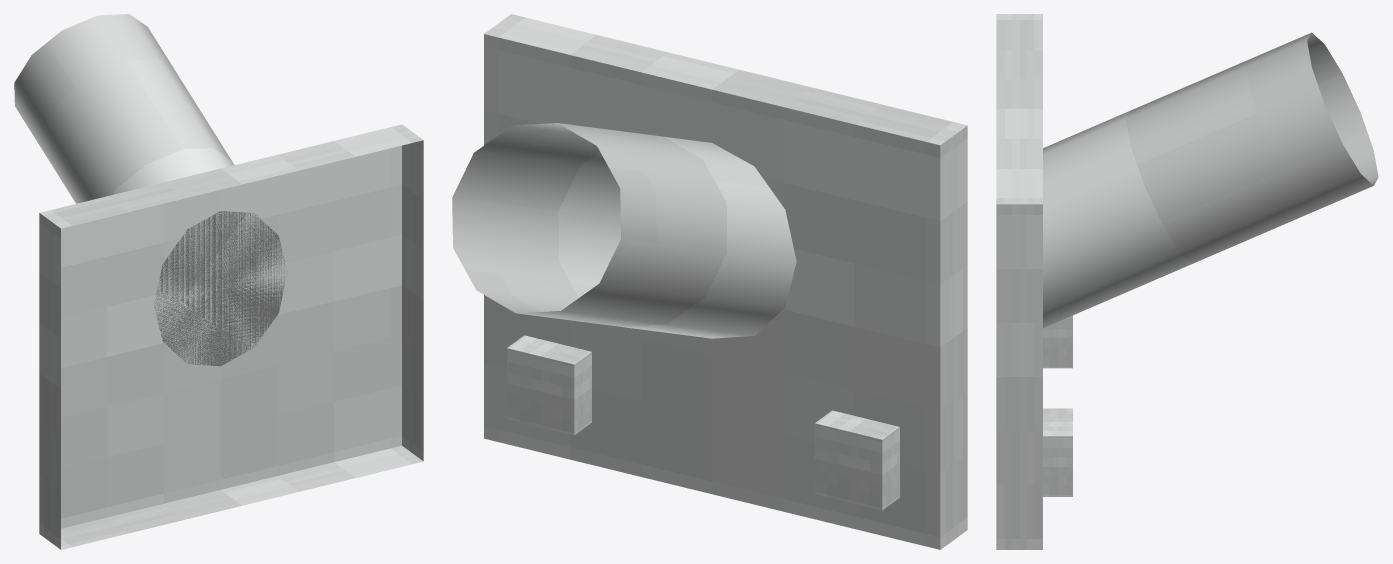
Rendered from luminairearm_truss15ftstraight_c1_wall.obj.
3 views of the same model, side by side, from view 1: azimuth 30°, elevation 25°; view 2: azimuth 150°, elevation 25°; view 3: azimuth 270°, elevation 25° (orthographic). The views are drawn at different scales.
Parts seen in each view (by area): view 1: luminairearm_truss15ftstraight_c1_wall; view 2: luminairearm_truss15ftstraight_c1_wall; view 3: luminairearm_truss15ftstraight_c1_wall.
Boxes of the visible parts, x1,y1,x2,y2 form: luminairearm_truss15ftstraight_c1_wall: [14, 14, 423, 549]; luminairearm_truss15ftstraight_c1_wall: [452, 14, 967, 549]; luminairearm_truss15ftstraight_c1_wall: [996, 14, 1378, 549].
Size of the model in its own units: 0.4222 by 0.4281 by 0.3584.
